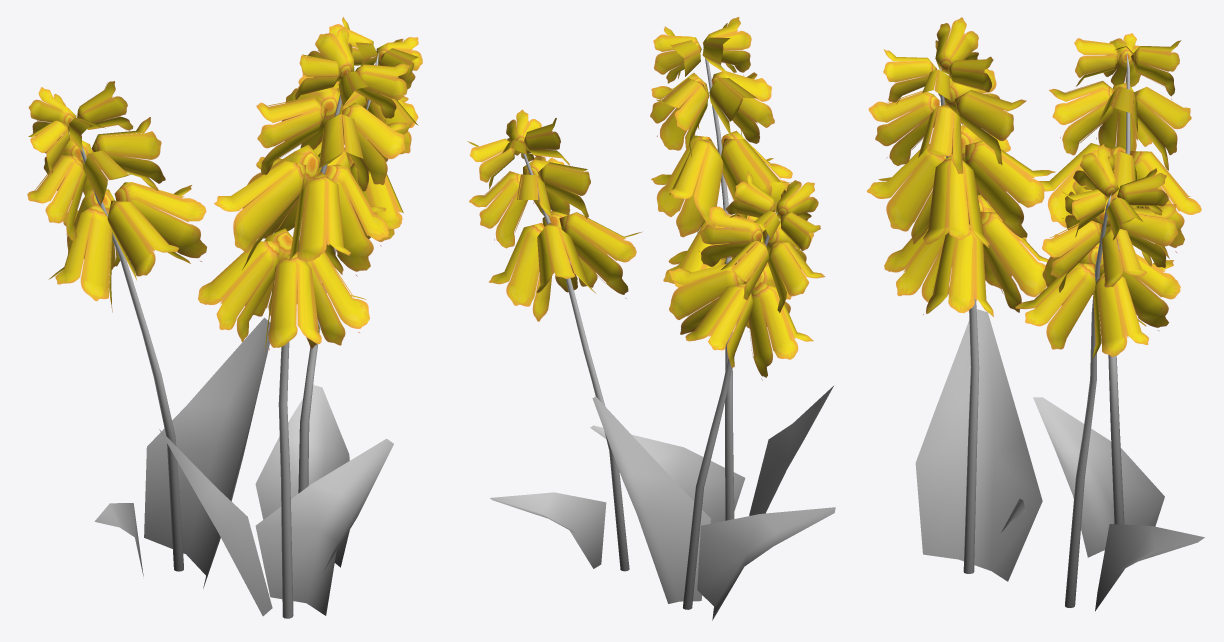
File: flowers_b.gltf
3 views of the same model, side by side, from view 1: azimuth 30°, elevation 25°; view 2: azimuth 150°, elevation 25°; view 3: azimuth 270°, elevation 25° (orthographic). The views are drawn at different scales.
Parts seen in each view (by area): view 1: Flower_4_Group; view 2: Flower_4_Group; view 3: Flower_4_Group.
Boxes of the visible parts, x1,y1,x2,y2 form: Flower_4_Group: [27, 17, 422, 618]; Flower_4_Group: [467, 17, 835, 620]; Flower_4_Group: [866, 17, 1204, 611].
Bounding box in the file's own units: 1.78 × 2.49 × 1.37.
